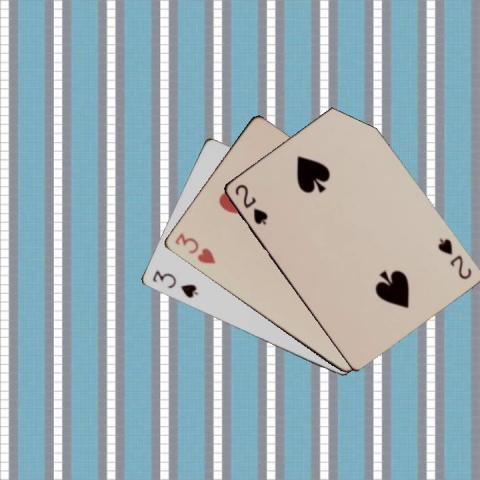2s: (434, 235, 473, 281), (232, 180, 270, 226)
3h: (171, 230, 217, 265)
3s: (149, 267, 199, 300)
